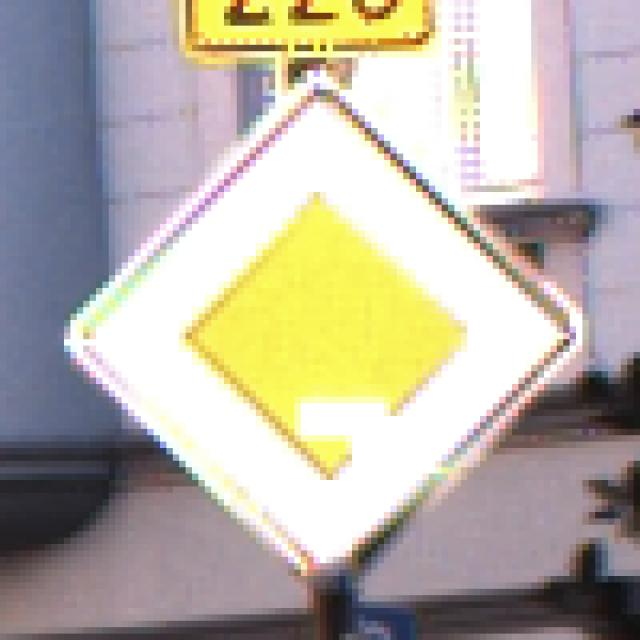Main Road: (52, 59, 590, 584)
